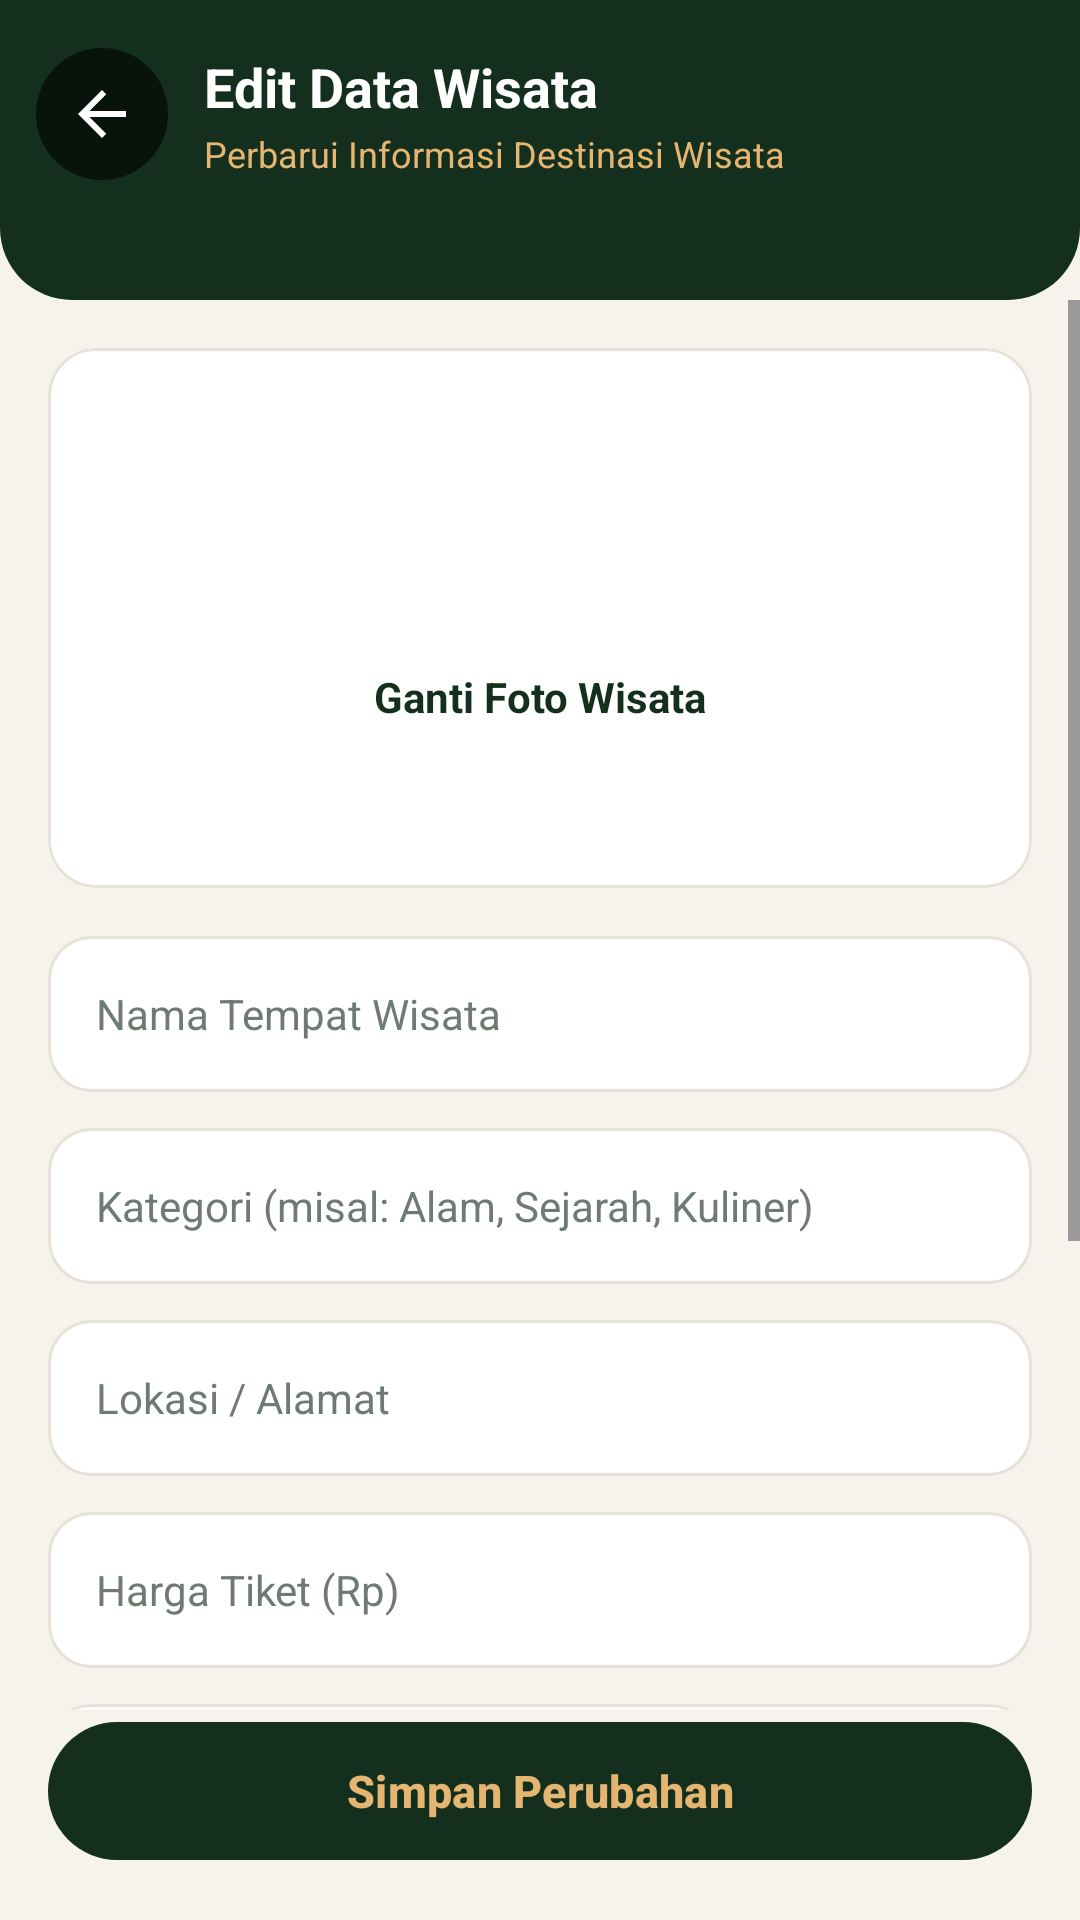

Point at icon controls on the screen. Image size 1080 x 1920, points as [x,y].
Kembali: [102,114]
